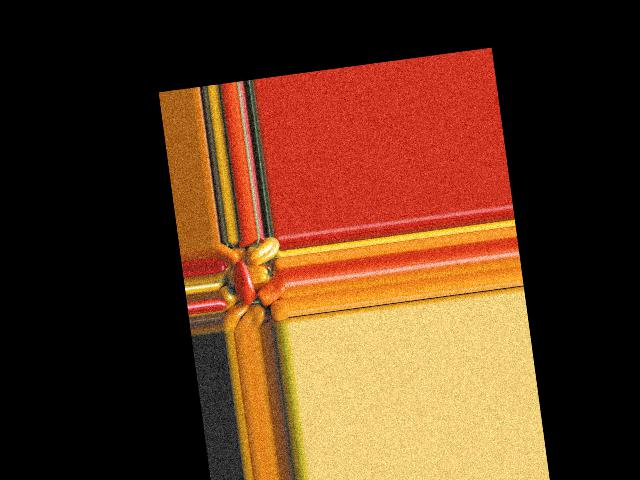bell_pepper: (246, 235, 280, 267)
